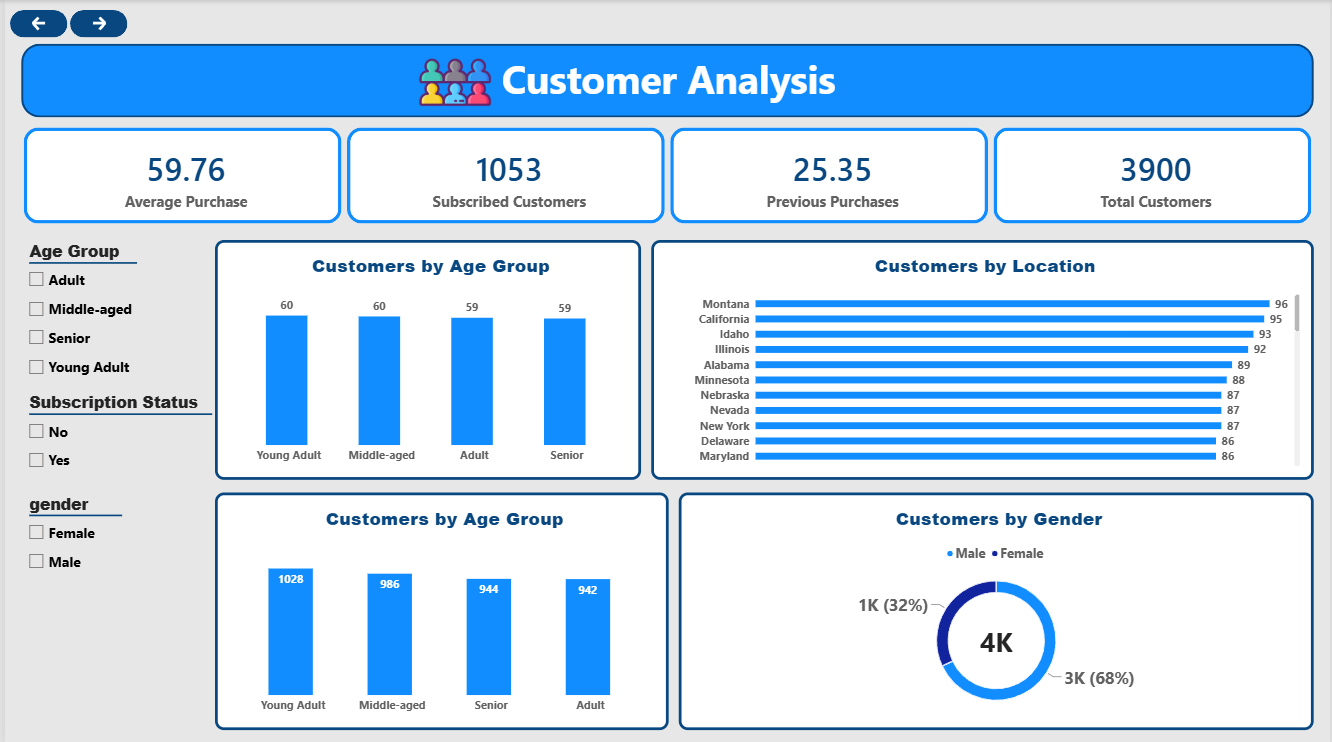

The dashboard page shown, as its layout file describes it:
{"tool":"powerbi","page":{"name":"Customer Analysis","canvas":[1920,1080],"ordinal":2},"visuals":[{"type":"cardVisual","fields":{"Data":["public customer.Average Purchase Amount","public customer.Subscribed Customers","public customer.Average Previous Purchases","public customer.Number of Customers"]},"box":[27.1,184.6,1867.6,139.3],"z":0},{"type":"clusteredColumnChart","title":"Customers by Age Group","fields":{"Category":["public customer.age_group"],"Y":["public customer.Number of Customers"]},"box":[304,713,656.9,343.8],"z":1000},{"type":"donutChart","title":"Customers by Gender","fields":{"Category":["public customer.gender"],"Y":["public customer.Number of Customers"]},"box":[975.4,713,919.3,343.8],"z":2000},{"type":"clusteredColumnChart","title":"Customers by Age Group","fields":{"Category":["public customer.age_group"],"Y":["public customer.Average Purchase Amount"]},"box":[304,347.5,617.1,347.5],"z":3000},{"type":"clusteredBarChart","title":"Customers by Location","fields":{"Category":["public customer.location"],"Y":["public customer.Number of Customers"]},"box":[935.6,347.5,959.1,347.5],"z":4000},{"type":"slicer","fields":{"Values":["public customer.age_group"]},"box":[27.1,347.5,171.9,219],"z":5000},{"type":"slicer","fields":{"Values":["public customer.subscription_status"]},"box":[27.1,566.4,280.5,128.5],"z":6000},{"type":"slicer","fields":{"Values":["public customer.gender"]},"box":[27.1,713,150.2,128.5],"z":7000},{"type":"shape","box":[23.5,63.3,1871.2,106.8],"z":8000},{"type":"textbox","box":[622.5,76,676.8,85.1],"z":9000},{"type":"actionButton","box":[7.2,13.8,83.2,39.8],"z":10000},{"type":"actionButton","box":[94.1,13.8,83.2,39.8],"z":11000},{"type":"image","box":[598.4,55,105.7,129],"z":11001}]}

Visuals, with their boxes in screenshot pixels (x1, y1, x2, y2), scaled from the page's 1920x1080 canvas onto the 1332x742 screenshot:
cardVisual - public customer.Average Purchase Amount x public customer.Subscribed Customers: {"left": 19, "top": 127, "right": 1314, "bottom": 223}
"Customers by Age Group" clusteredColumnChart: {"left": 211, "top": 490, "right": 667, "bottom": 726}
"Customers by Gender" donutChart: {"left": 677, "top": 490, "right": 1314, "bottom": 726}
"Customers by Age Group" clusteredColumnChart: {"left": 211, "top": 239, "right": 639, "bottom": 477}
"Customers by Location" clusteredBarChart: {"left": 649, "top": 239, "right": 1314, "bottom": 477}
slicer - public customer.age_group: {"left": 19, "top": 239, "right": 138, "bottom": 389}
slicer - public customer.subscription_status: {"left": 19, "top": 389, "right": 213, "bottom": 477}
slicer - public customer.gender: {"left": 19, "top": 490, "right": 123, "bottom": 578}
shape: {"left": 16, "top": 43, "right": 1314, "bottom": 117}
textbox: {"left": 432, "top": 52, "right": 901, "bottom": 111}
actionButton: {"left": 5, "top": 9, "right": 63, "bottom": 37}
actionButton: {"left": 65, "top": 9, "right": 123, "bottom": 37}
image: {"left": 415, "top": 38, "right": 488, "bottom": 126}
